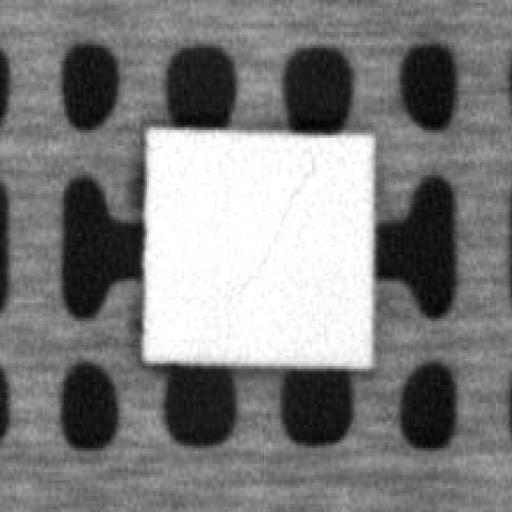DIE_CRACK: (238, 164, 317, 278)
